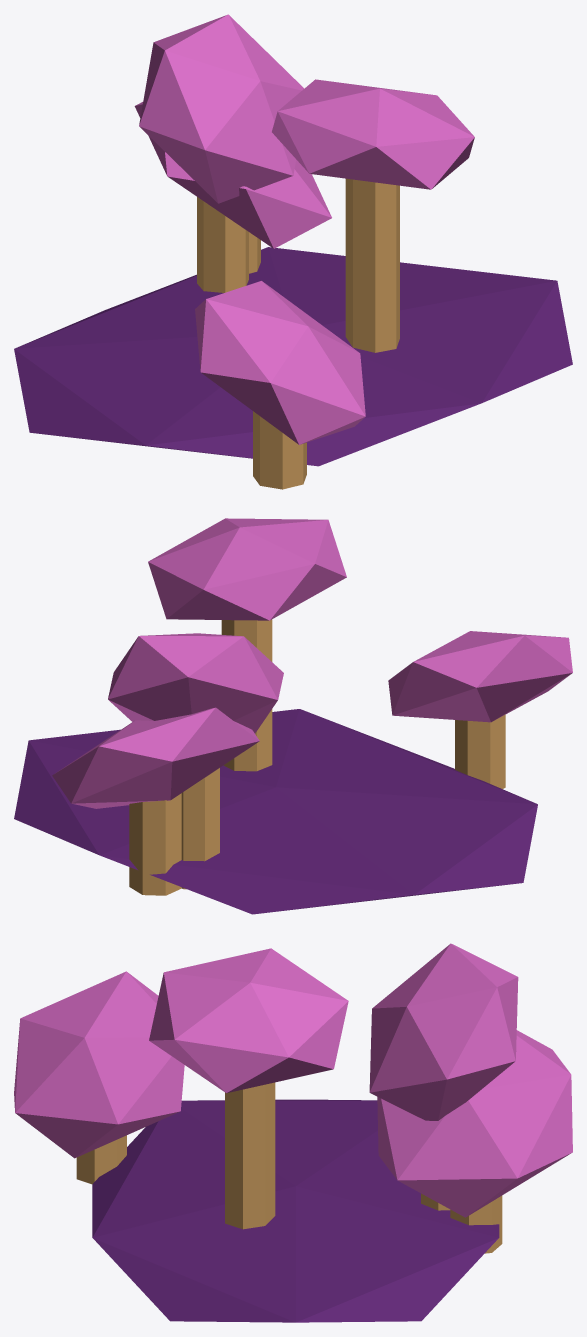
Rendered from mushroom_cluster_f.glb.
The picture shows the model from 3 angles, top to bottom: view 1: azimuth 30°, elevation 25°; view 2: azimuth 150°, elevation 25°; view 3: azimuth 270°, elevation 25°; orthographic projection. The views are drawn at different scales.
Visible parts, largest first — view 1: Mire_Growth.005, Cap_4.004, Cap_2.005, Cap_3.005, Stem_3.011, Cap_1.005, Stem_4.010, Stem_2.011; view 2: Mire_Growth.005, Cap_3.005, Cap_4.004, Cap_2.005, Cap_1.005, Stem_1.011, Stem_4.010, Stem_2.011, Stem_3.011; view 3: Mire_Growth.005, Cap_2.005, Cap_3.005, Cap_1.005, Cap_4.004, Stem_3.011, Stem_2.011, Stem_1.011.
Part boxes in pixels (x1,y1,x2,y2): Mire_Growth.005: (14,247,572,466); Cap_4.004: (139,14,304,203); Cap_2.005: (195,281,365,444); Cap_3.005: (272,79,474,189); Stem_3.011: (345,178,399,352); Cap_1.005: (134,102,331,248); Stem_4.010: (197,197,248,292); Stem_2.011: (253,411,306,489); Mire_Growth.005: (14,709,537,914); Cap_3.005: (148,518,346,620); Cap_4.004: (108,633,283,733); Cap_2.005: (388,631,572,722); Cap_1.005: (52,707,259,808); Stem_1.011: (129,793,181,895); Stem_4.010: (181,768,219,889); Stem_2.011: (455,714,505,788); Stem_3.011: (221,619,272,771); Mire_Growth.005: (92,1099,499,1322); Cap_2.005: (14,971,184,1158); Cap_3.005: (149,948,348,1093); Cap_1.005: (377,1030,572,1217); Cap_4.004: (369,943,518,1120); Stem_3.011: (225,1082,275,1229); Stem_2.011: (76,1135,126,1184); Stem_1.011: (450,1195,502,1253).
Size of the model in its own units: 1.7 by 0.9118 by 1.64.
